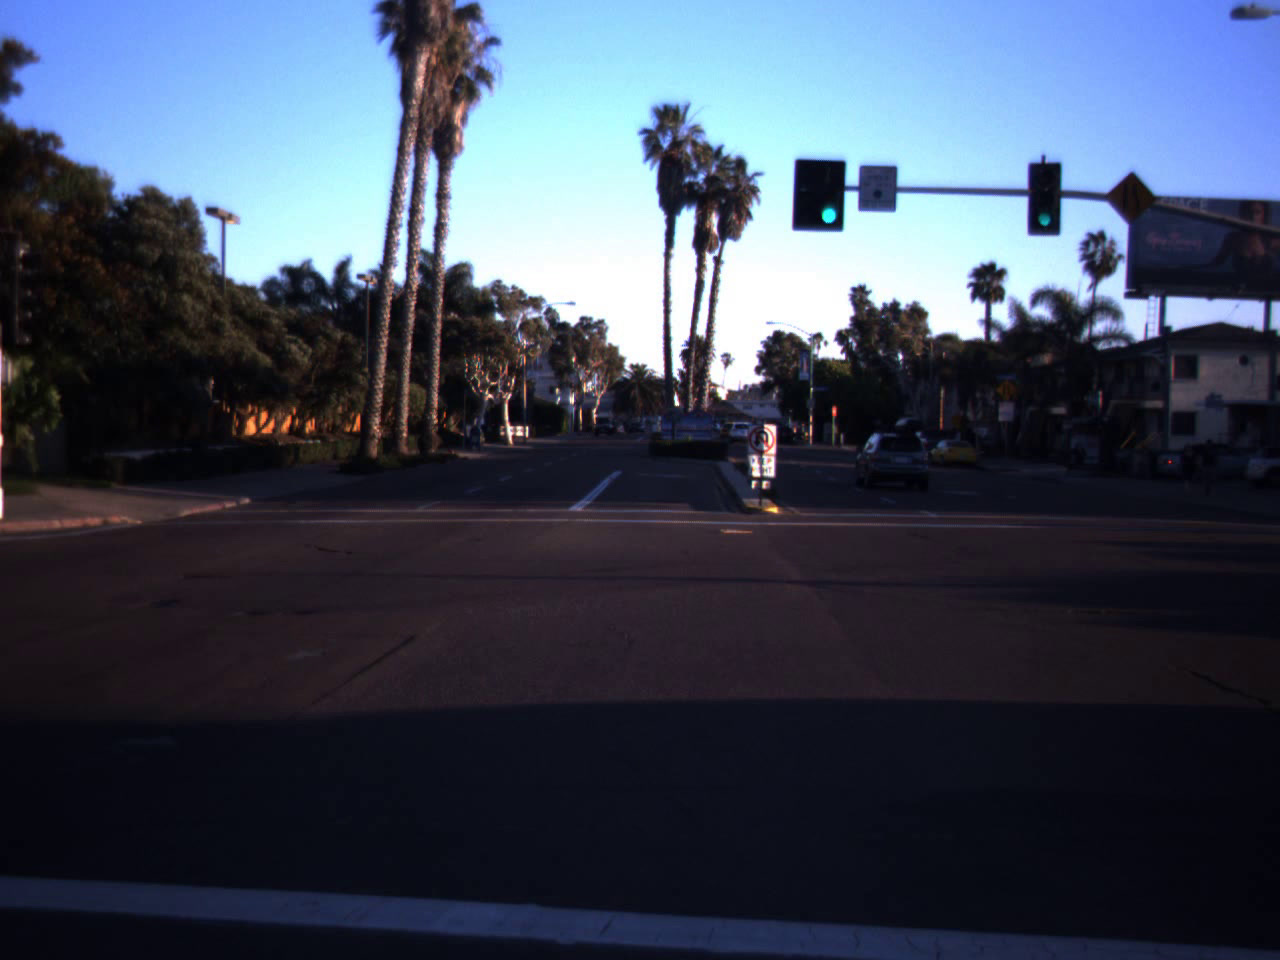go: (812, 160, 842, 230), (1033, 190, 1057, 230)
